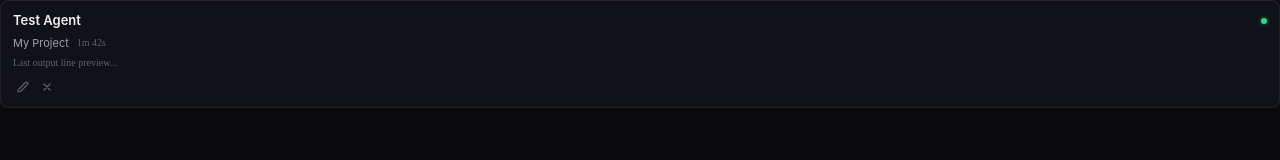
Test: AgentCard › cancels close on No click
This screenshot has width=1280, height=160.
Click the button named "Close Test Agent" at (47, 87), box [37,77,57,97]
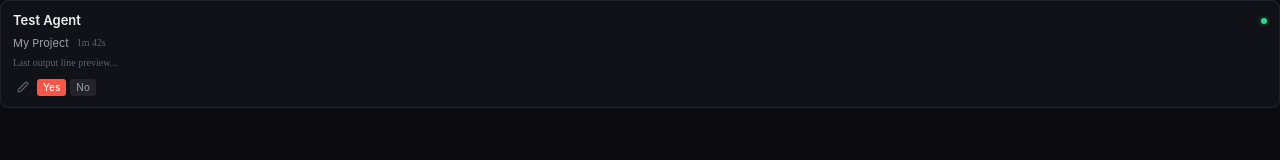
Click the button with test id "confirm-close-no-session-1" at (83, 87), box [70,78,96,96]
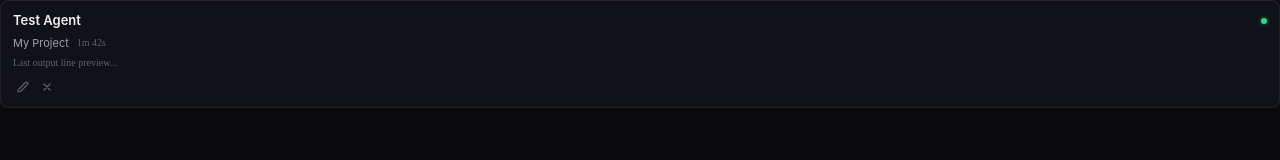
Expected: the element with test id "confirm-close-session-1" is gone
